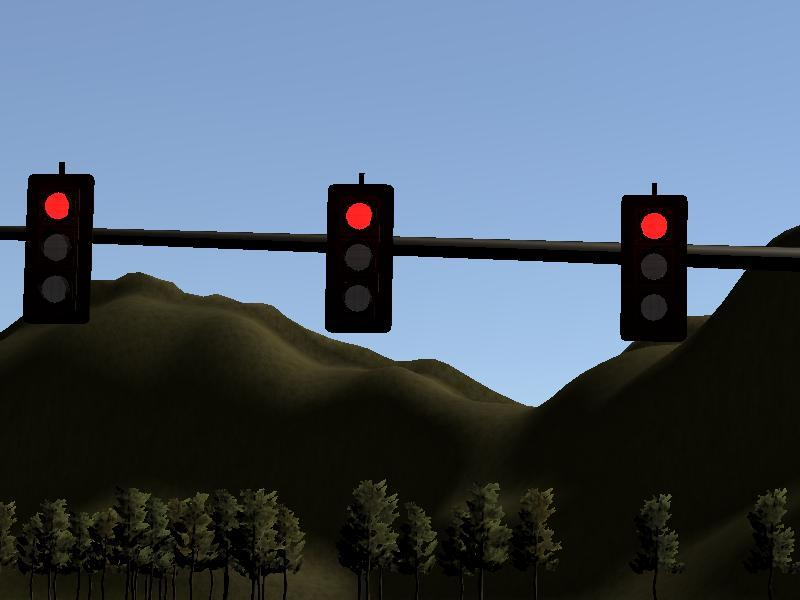Red: (618, 194, 689, 341), (25, 173, 92, 324), (325, 184, 392, 333)
